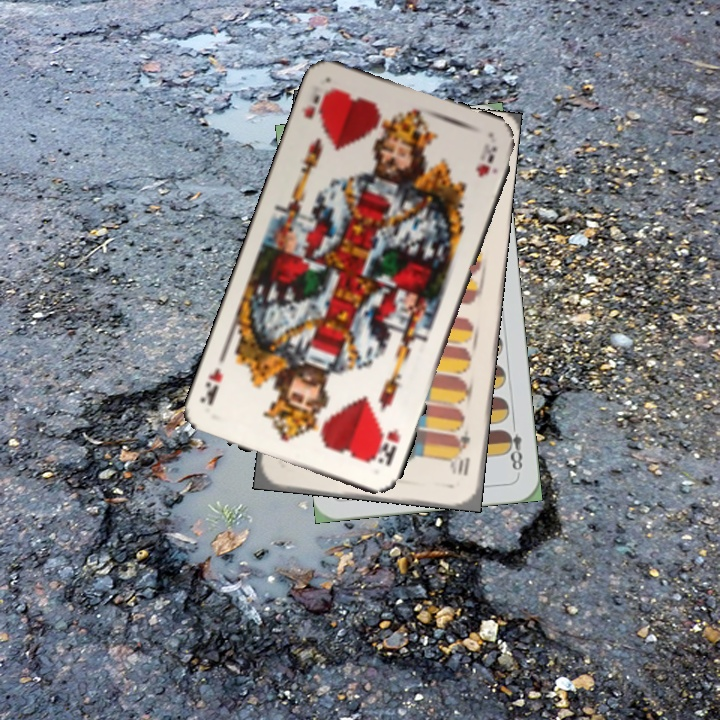E10: (451, 426, 473, 479)
E8: (500, 417, 526, 473)
HK: (370, 424, 403, 469), (299, 84, 336, 123)
